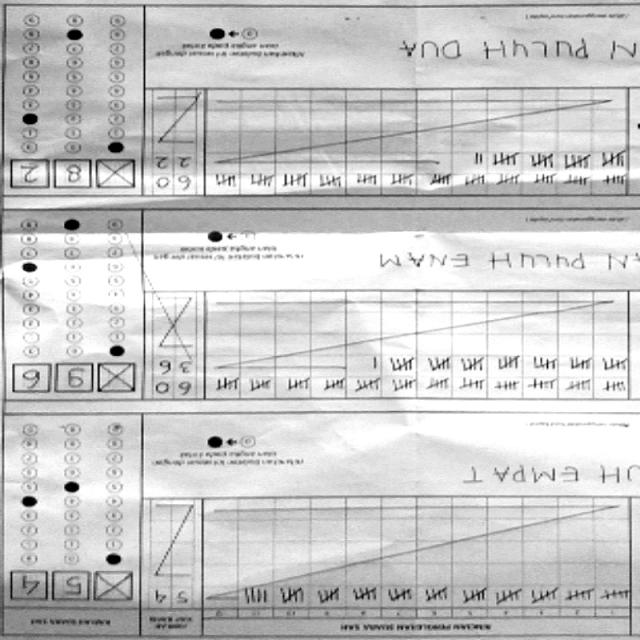Suara: (13, 566, 138, 607), (9, 362, 140, 400), (14, 158, 140, 193)
